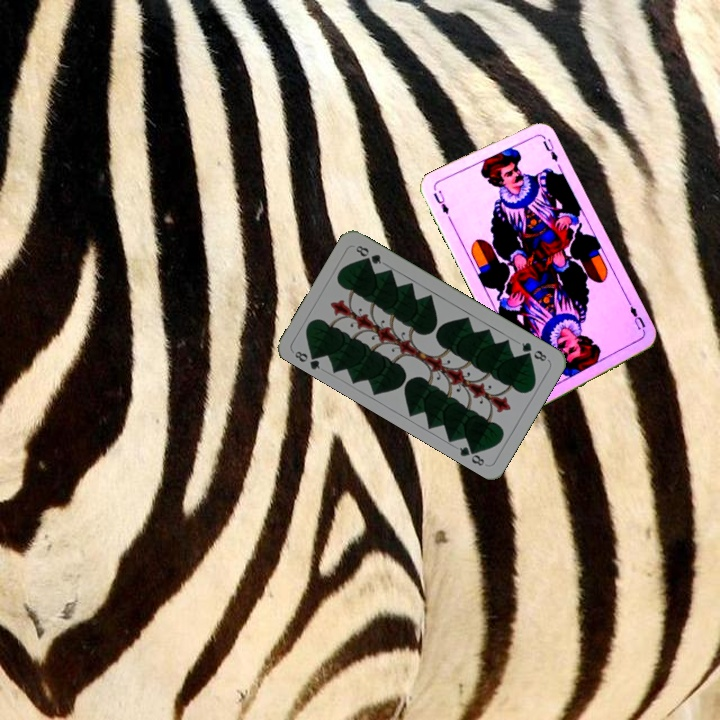EU: (625, 299, 648, 337), (429, 185, 452, 217)
G8: (517, 338, 549, 364), (290, 347, 323, 372)
